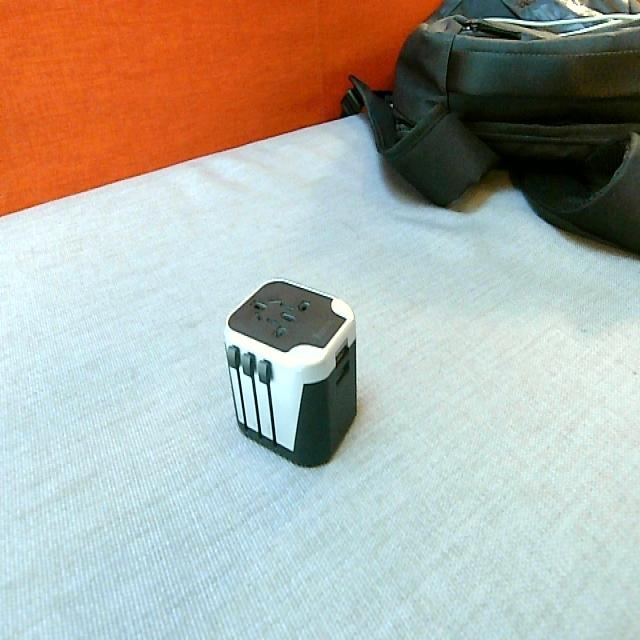adapter: (222, 276, 358, 467)
